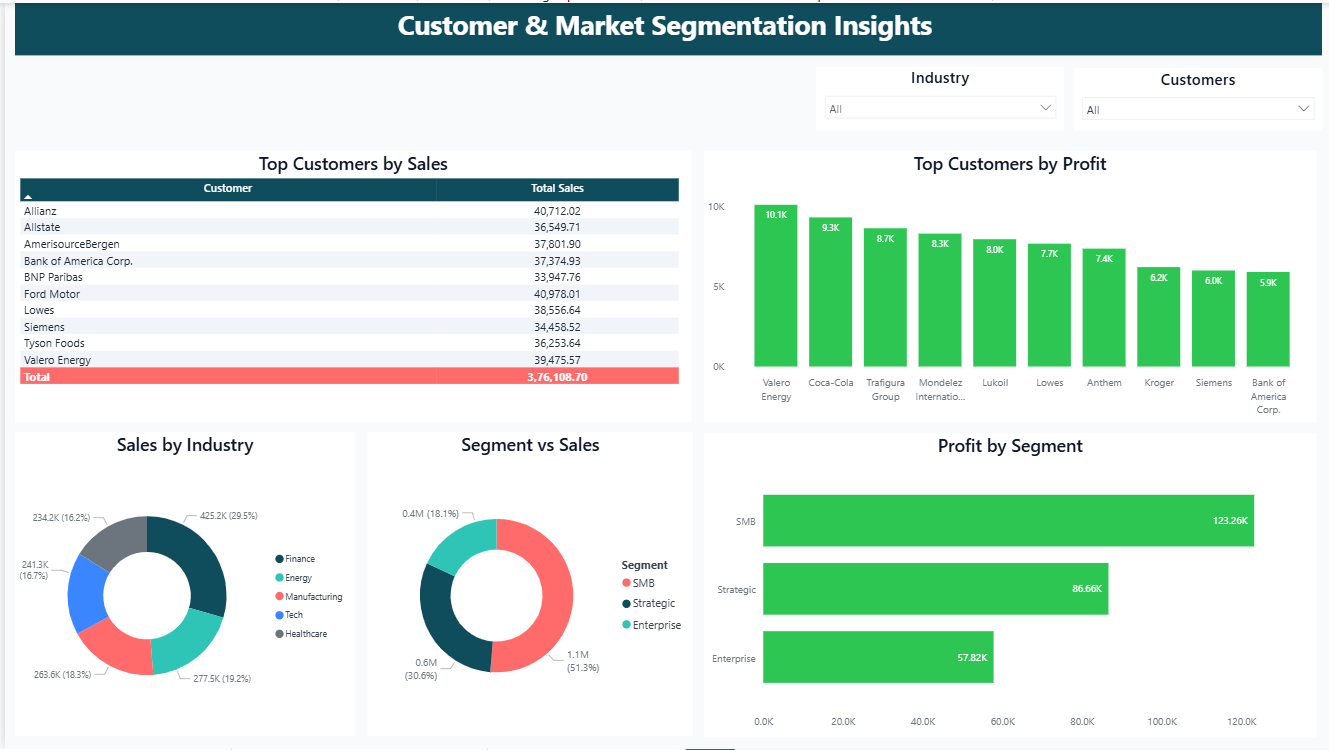

Layout of this report page (visuals, bound fields, positions):
{"tool":"powerbi","page":{"name":"Customer & Segment Analysis","canvas":[1280,720],"ordinal":2},"visuals":[{"type":"barChart","title":"Profit by Segment","fields":{"Category":["SaaS-Sales.Segment"],"Y":["SaaS-Sales.Total Profit"]},"box":[11.2,67.5,665,300],"z":0},{"type":"tableEx","title":"Top 10 Customers by Sales","fields":{"Values":["SaaS-Sales.Customer","SaaS-Sales.Total Sales"]},"box":[683.8,67.5,590,291.2],"z":1000},{"type":"pieChart","title":"Sales by Industry","fields":{"Category":["SaaS-Sales.Industry"],"Y":["SaaS-Sales.Total Sales"]},"box":[11.2,380,665,340],"z":2000},{"type":"columnChart","fields":{"Category":["SaaS-Sales.Region"],"Y":["CountNonNull(SaaS-Sales.Customer ID)"]},"box":[683.8,367.5,590,352.5],"z":3000},{"type":"textbox","box":[11.2,0,1262.5,56.2],"z":4000}]}

Visuals, with their boxes in screenshot pixels (x1, y1, x2, y2), scaled from the page's 1280x720 canvas onto the 1329x750 screenshot:
"Profit by Segment" barChart: 12 70 702 383
"Top 10 Customers by Sales" tableEx: 710 70 1323 374
"Sales by Industry" pieChart: 12 396 702 749
columnChart - SaaS-Sales.Region x CountNonNull(SaaS-Sales.Customer ID): 710 383 1323 749
textbox: 12 0 1322 59
